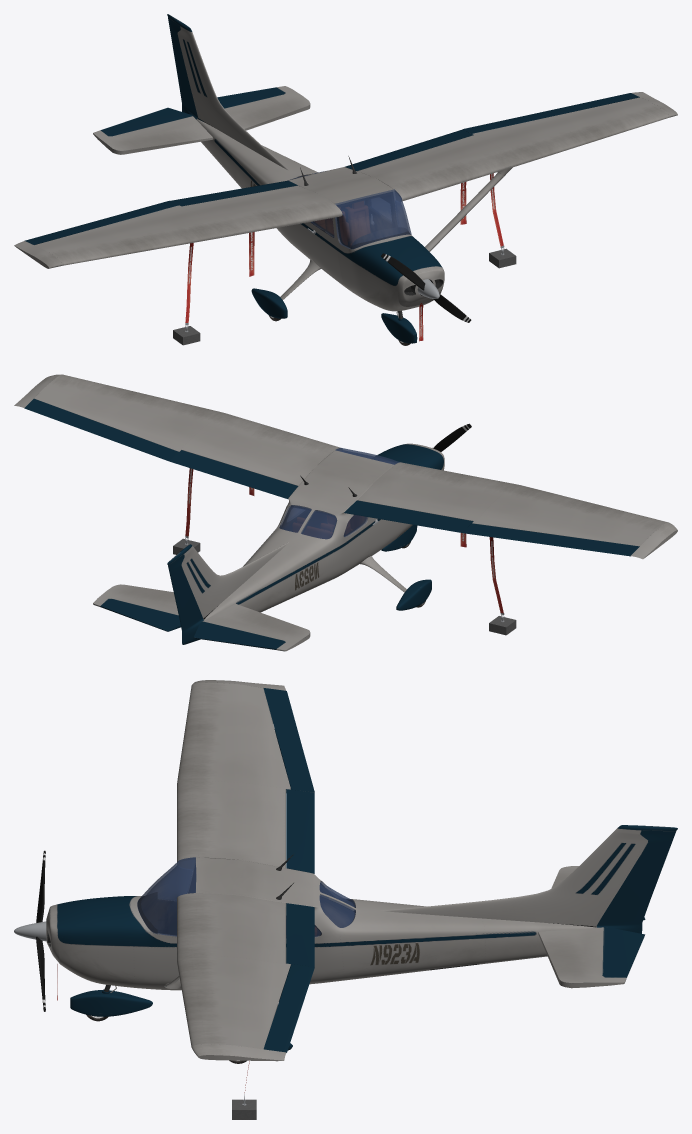
File: Cessna172SP-Parked.obj
3 views of the same model, one above another, from view 1: azimuth 30°, elevation 25°; view 2: azimuth 150°, elevation 25°; view 3: azimuth 270°, elevation 25° (orthographic). The views are drawn at different scales.
Visible parts, largest first — view 1: Plane.005_Body, Plane.025_Body, Plane.009_Body, Plane.016_Window, Plane.002_Body, Plane.021_Body, Plane.020_Body, Plane.010_Body, Plane.014_Body, Plane.006_Body, Plane.004_Body, Plane.038_Interior (+7 smaller); view 2: Plane.005_Body, Plane.025_Body, Plane.021_Body, Plane.020_Body, Plane.009_Body, Plane.002_Body, Plane.010_Body, Plane.016_Window, Plane.004_Body, Plane.014_Body, Cube.001_Body, Cube.010_Concrete (+2 smaller); view 3: Plane.005_Body, Plane.025_Body, Plane.002_Body, Plane.021_Body, Plane.020_Body, Plane.016_Window, Plane.009_Body, Plane.004_Body, Plane.010_Body, Cube.003_Body, Plane.026_Interior_2, Plane_Screw.
Boxes of the visible parts, bbox=[...] form: Plane.005_Body: bbox=[14, 92, 677, 268]; Plane.025_Body: bbox=[196, 119, 442, 311]; Plane.009_Body: bbox=[93, 86, 310, 154]; Plane.016_Window: bbox=[288, 171, 411, 249]; Plane.002_Body: bbox=[177, 26, 288, 170]; Plane.021_Body: bbox=[25, 93, 639, 244]; Plane.020_Body: bbox=[170, 129, 473, 206]; Plane.010_Body: bbox=[100, 87, 285, 136]; Plane.014_Body: bbox=[308, 218, 343, 283]; Plane.006_Body: bbox=[397, 266, 444, 306]; Plane.004_Body: bbox=[168, 17, 203, 121]; Plane.038_Interior: bbox=[325, 205, 369, 244]; Plane.005_Body: bbox=[14, 374, 677, 559]; Plane.025_Body: bbox=[204, 444, 443, 619]; Plane.021_Body: bbox=[24, 398, 639, 556]; Plane.020_Body: bbox=[170, 450, 473, 532]; Plane.009_Body: bbox=[93, 584, 310, 651]; Plane.002_Body: bbox=[181, 542, 288, 618]; Plane.010_Body: bbox=[100, 598, 285, 649]; Plane.016_Window: bbox=[279, 447, 399, 539]; Plane.004_Body: bbox=[168, 554, 203, 644]; Plane.014_Body: bbox=[369, 517, 400, 555]; Cube.001_Body: bbox=[396, 579, 431, 610]; Cube.010_Concrete: bbox=[173, 538, 516, 635]; Plane.005_Body: bbox=[177, 680, 313, 1061]; Plane.025_Body: bbox=[57, 857, 596, 990]; Plane.002_Body: bbox=[380, 828, 647, 926]; Plane.021_Body: bbox=[263, 688, 314, 1052]; Plane.020_Body: bbox=[286, 789, 314, 966]; Plane.016_Window: bbox=[137, 857, 355, 938]; Plane.009_Body: bbox=[538, 866, 626, 988]; Plane.004_Body: bbox=[596, 830, 676, 933]; Plane.010_Body: bbox=[602, 917, 645, 977]; Cube.003_Body: bbox=[70, 990, 152, 1016]; Plane.026_Interior_2: bbox=[158, 865, 592, 935]; Plane_Screw: bbox=[36, 850, 45, 1011].
Bounding box in the file's own units: 3.69 × 0.8967 × 2.76.
Materials: 27 (14 with a texture image).
